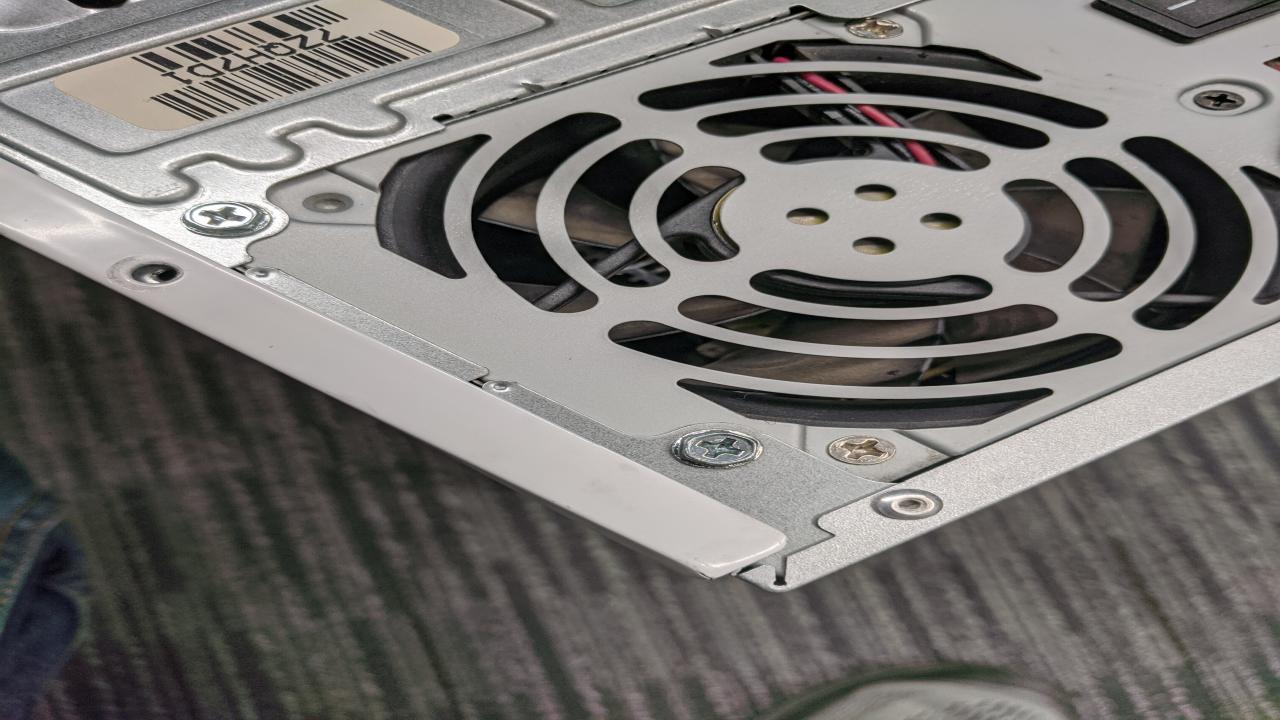CRS: (180, 201, 268, 232), (684, 432, 759, 464), (827, 433, 896, 463), (844, 15, 913, 43), (1194, 91, 1244, 111)
